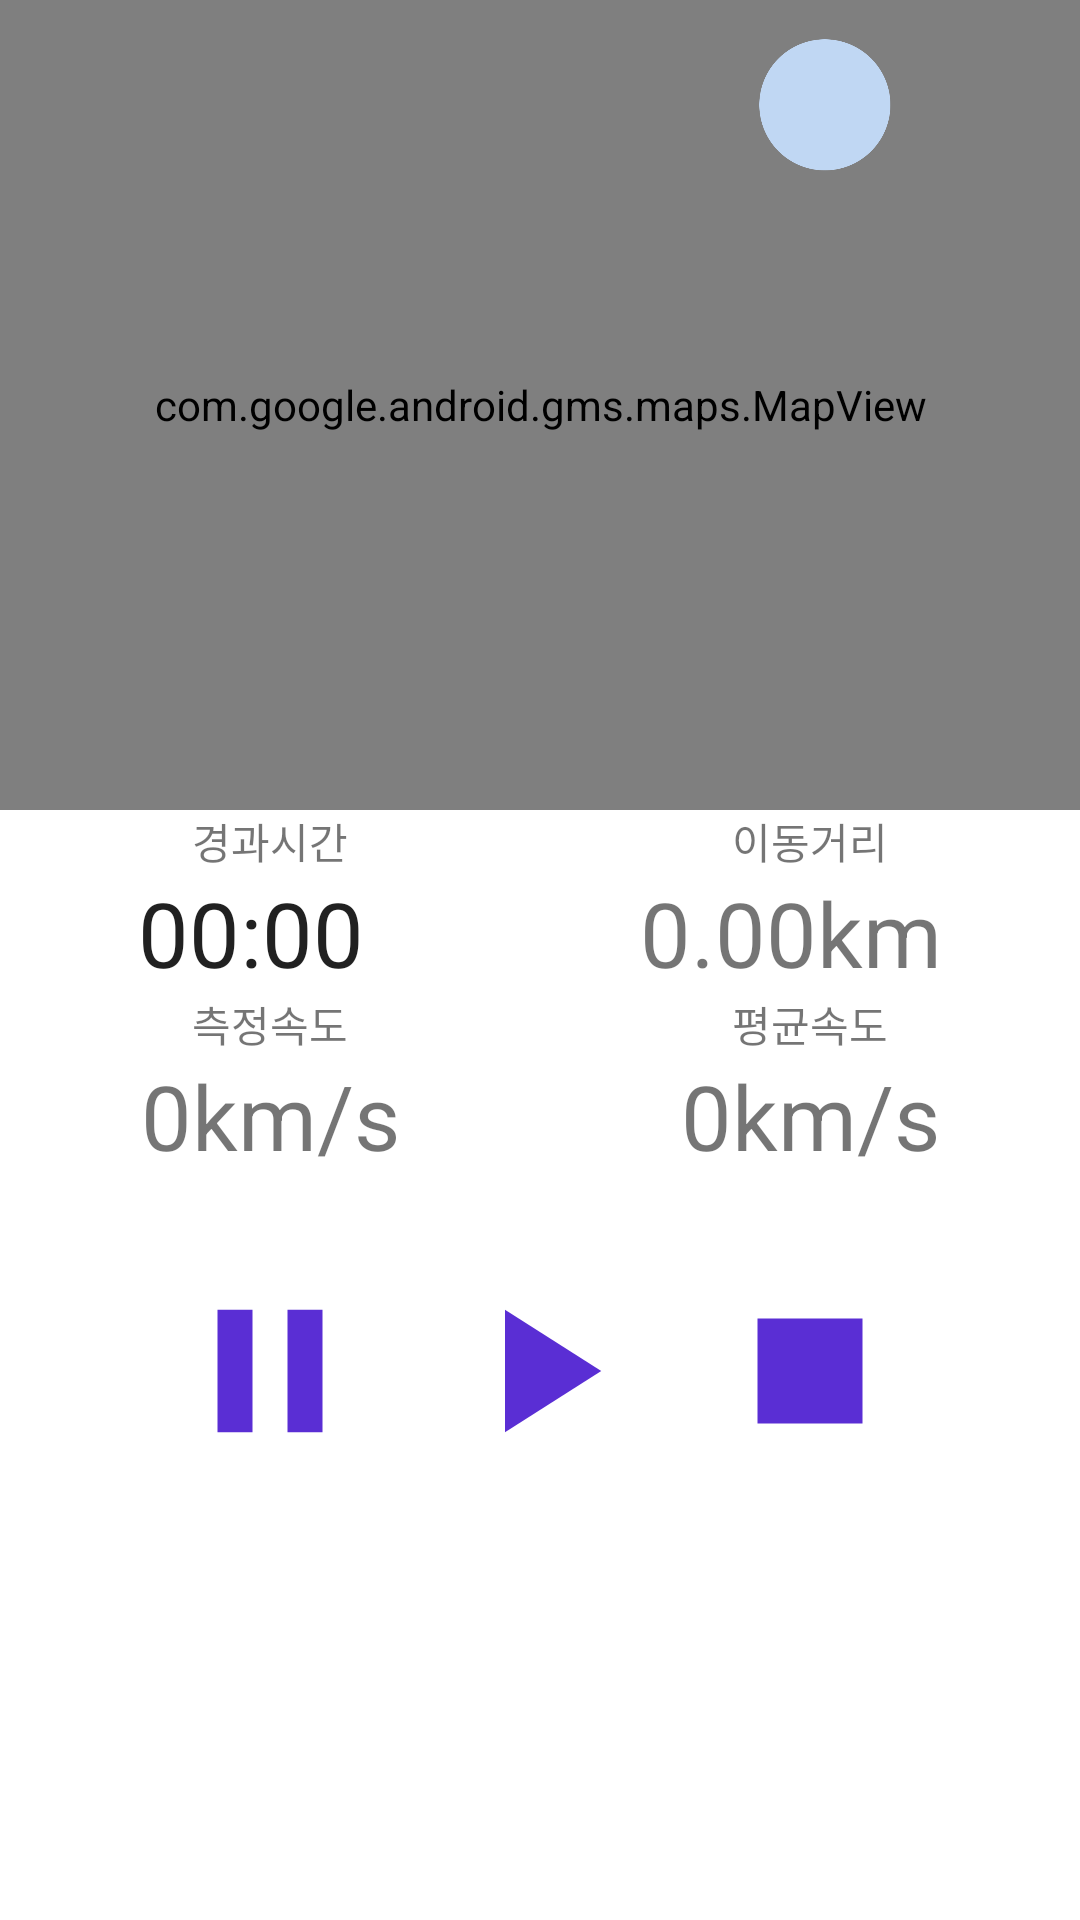

Locate icon controls on the screen. Image size 1080 x 1920, boxes as (x1, y1, x2, y2).
pause: (217, 1309, 323, 1433)
play arrow: (505, 1310, 601, 1432)
stop: (757, 1318, 863, 1424)
